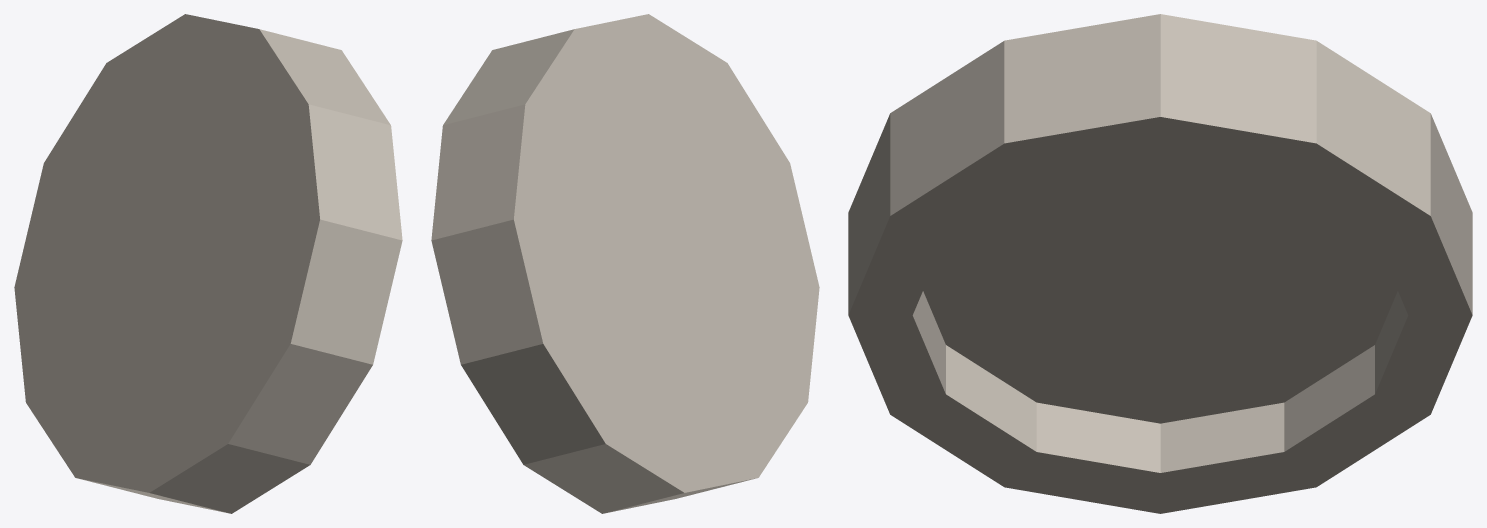
The model's file is outlet_main_l_3.glb.
3 renders of one model, left to right at view 1: azimuth 30°, elevation 25°; view 2: azimuth 150°, elevation 25°; view 3: azimuth 270°, elevation 25°, orthographic. The views are drawn at different scales.
Parts seen in each view (by area): view 1: Cylinder.082; view 2: Cylinder.082; view 3: Cylinder.082.
Boxes of the visible parts, x1,y1,x2,y2 form: Cylinder.082: [14, 14, 402, 513]; Cylinder.082: [431, 14, 819, 513]; Cylinder.082: [848, 14, 1472, 513].
Bounding box in the file's own units: 0.1164 × 0.1857 × 0.1867.
Materials: 1 (1 with a texture image).
